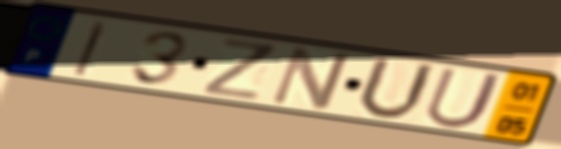3: (129, 30, 191, 86)
I: (70, 18, 113, 78)
N: (266, 44, 356, 112)
U: (352, 54, 439, 123), (420, 65, 507, 131)
Z: (200, 35, 281, 103)
